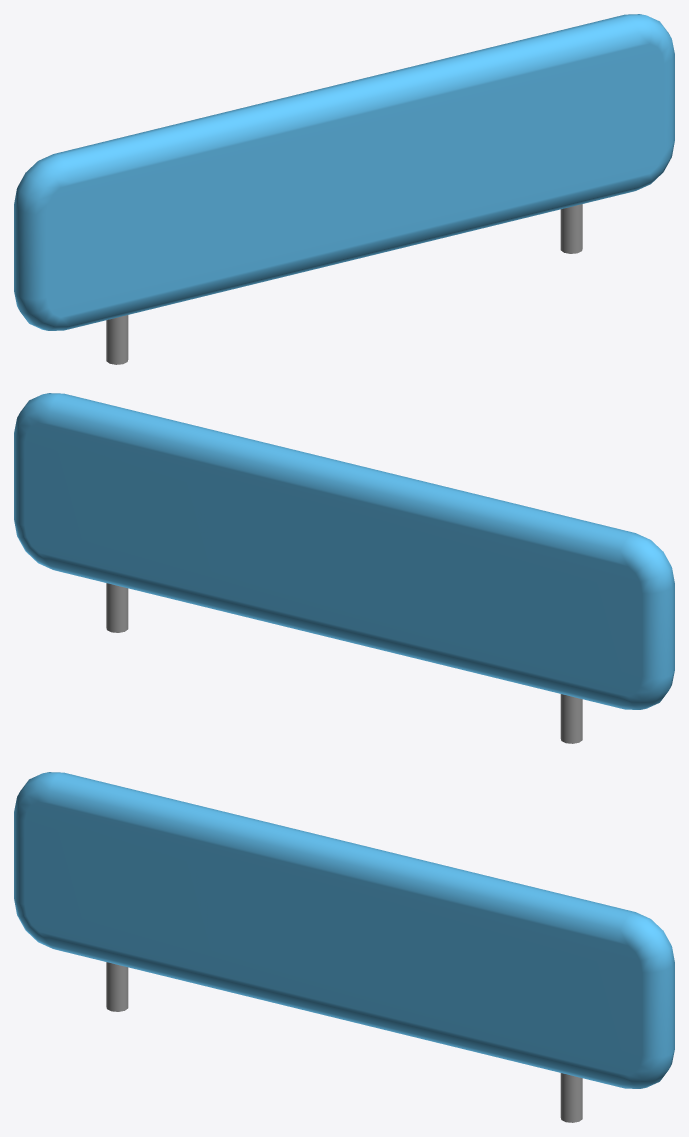
Rendered from Poster_M_02.fbx.
3 renders of one model, top to bottom at view 1: azimuth 30°, elevation 25°; view 2: azimuth 150°, elevation 25°; view 3: azimuth 330°, elevation 25°, orthographic.
Visible parts, largest first — view 1: Poster_M_02; view 2: Poster_M_02; view 3: Poster_M_02.
Part boxes in pixels (x1,y1,x2,y2): Poster_M_02: [14, 14, 674, 364]; Poster_M_02: [14, 393, 674, 743]; Poster_M_02: [14, 772, 674, 1122].
Size of the model in its own units: 444 by 142 by 25.7.
Materials: 2 (1 with a texture image).
